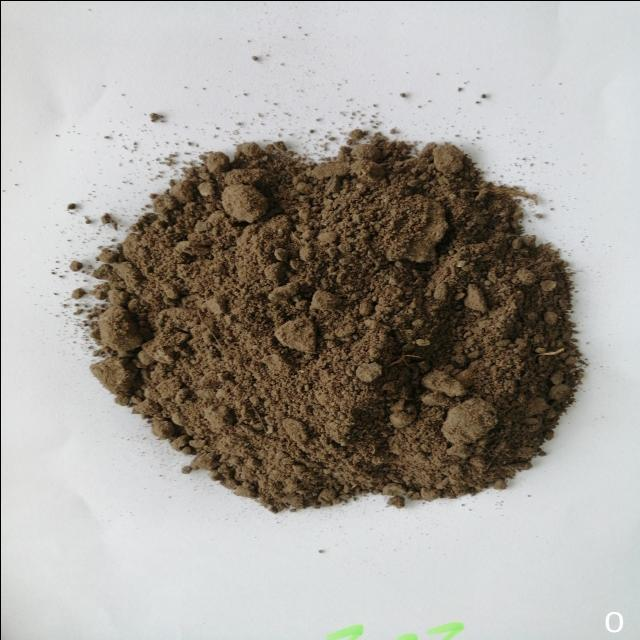soil: (167, 202, 516, 468)
